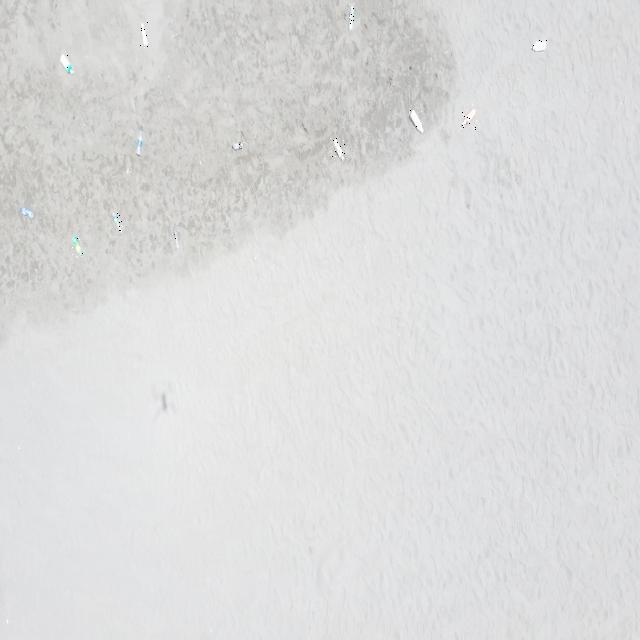Garbage: (408, 108, 423, 131), (460, 108, 475, 127), (333, 138, 344, 159), (60, 52, 71, 72), (232, 131, 243, 150), (347, 5, 355, 30), (71, 236, 83, 252), (111, 212, 120, 231), (532, 40, 547, 51), (140, 23, 147, 45), (136, 129, 141, 156), (20, 207, 32, 218), (172, 227, 178, 248), (124, 156, 131, 173), (232, 140, 243, 150)
